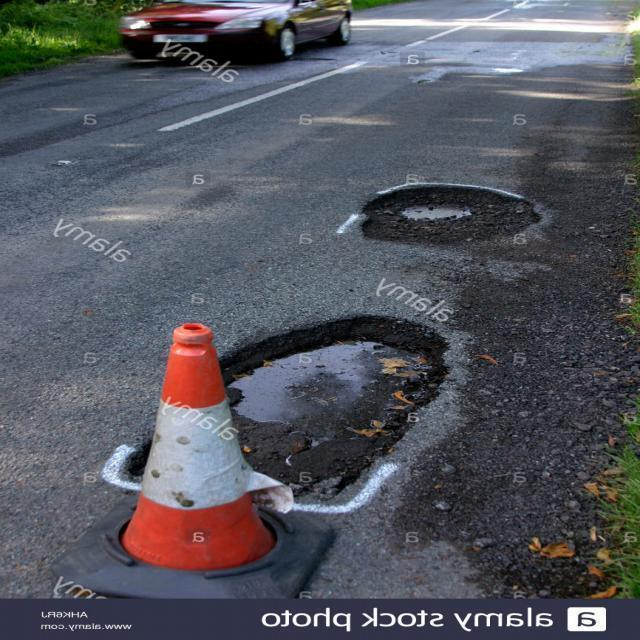pothole: (3, 157, 589, 544)
